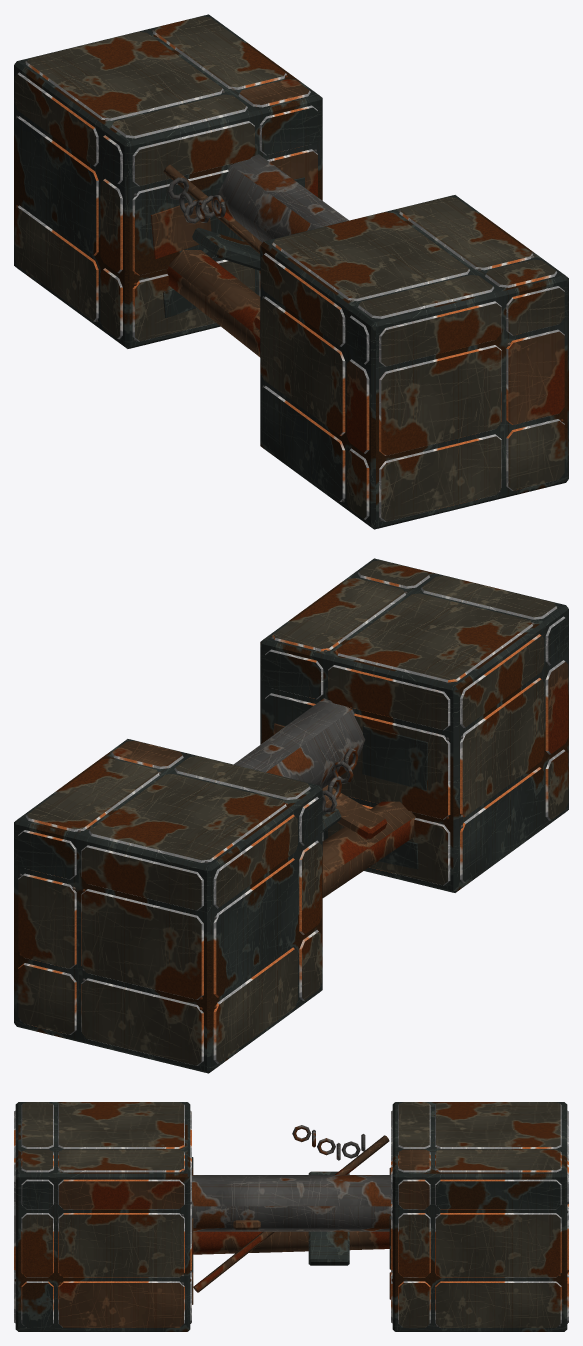
The model's file is R4C_STRUT_STANDARD.glb.
3 renders of one model, top to bottom at view 1: azimuth 30°, elevation 25°; view 2: azimuth 150°, elevation 25°; view 3: azimuth 270°, elevation 25°, orthographic. The views are drawn at different scales.
Parts seen in each view (by area): view 1: R4C_STRUT_STANDARD; view 2: R4C_STRUT_STANDARD; view 3: R4C_STRUT_STANDARD.
Boxes of the visible parts, x1,y1,x2,y2 form: R4C_STRUT_STANDARD: [14, 14, 568, 529]; R4C_STRUT_STANDARD: [14, 558, 568, 1073]; R4C_STRUT_STANDARD: [14, 1102, 568, 1331].
Size of the model in its own units: 0.52 by 0.52 by 1.62.
5 materials, 5 textured.
